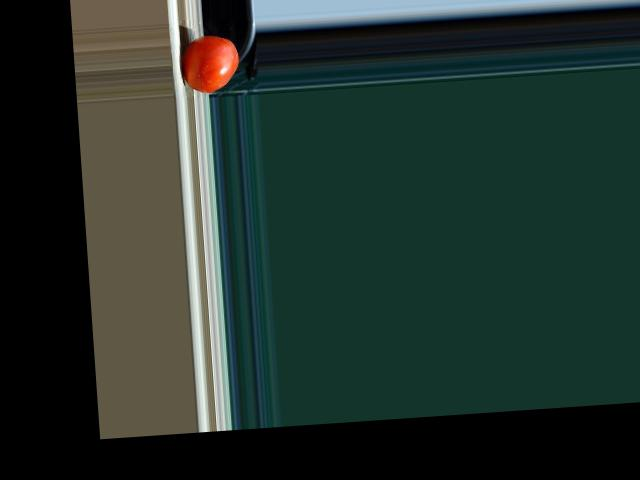tomato: (181, 33, 241, 93)
